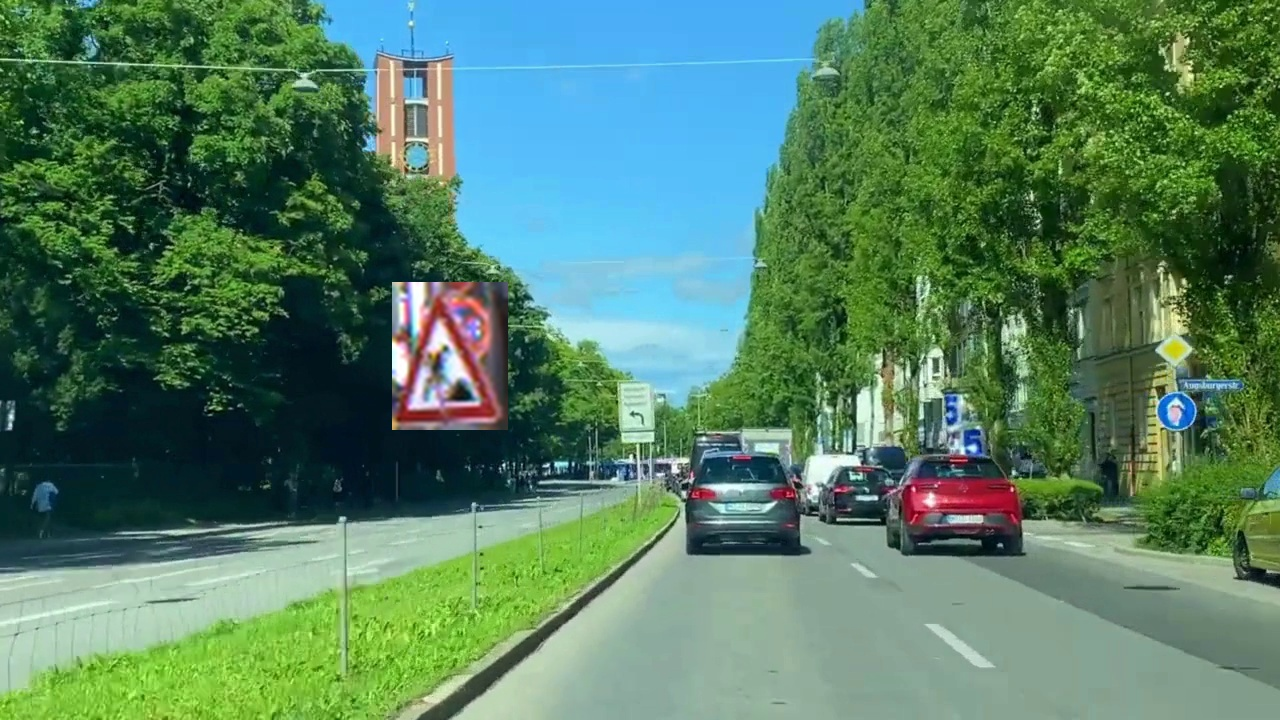Road work: (392, 282, 508, 430)
